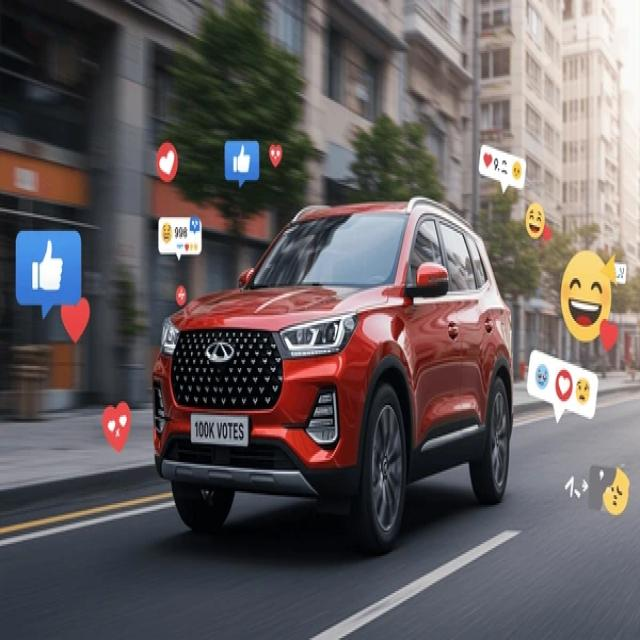cherry: (199, 334, 237, 364)
